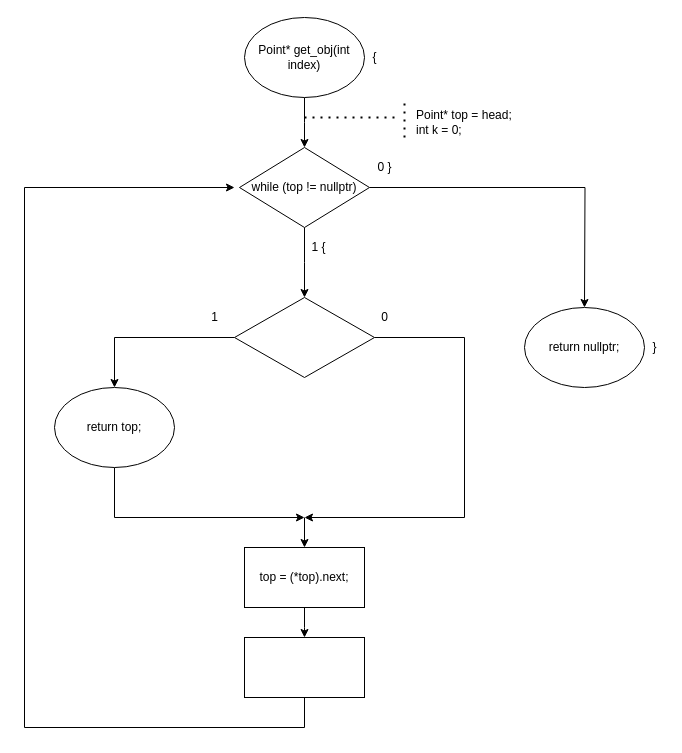
The diagram is 682 pixels wide and 753 high, and some of its shapes have lost their labels. Each missing label, with the centre of its shape:
++k;: (x=304, y=667)
if (k == index): (x=304, y=337)
